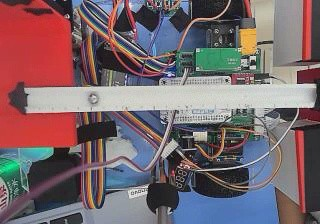ironball: (88, 93, 99, 104)
